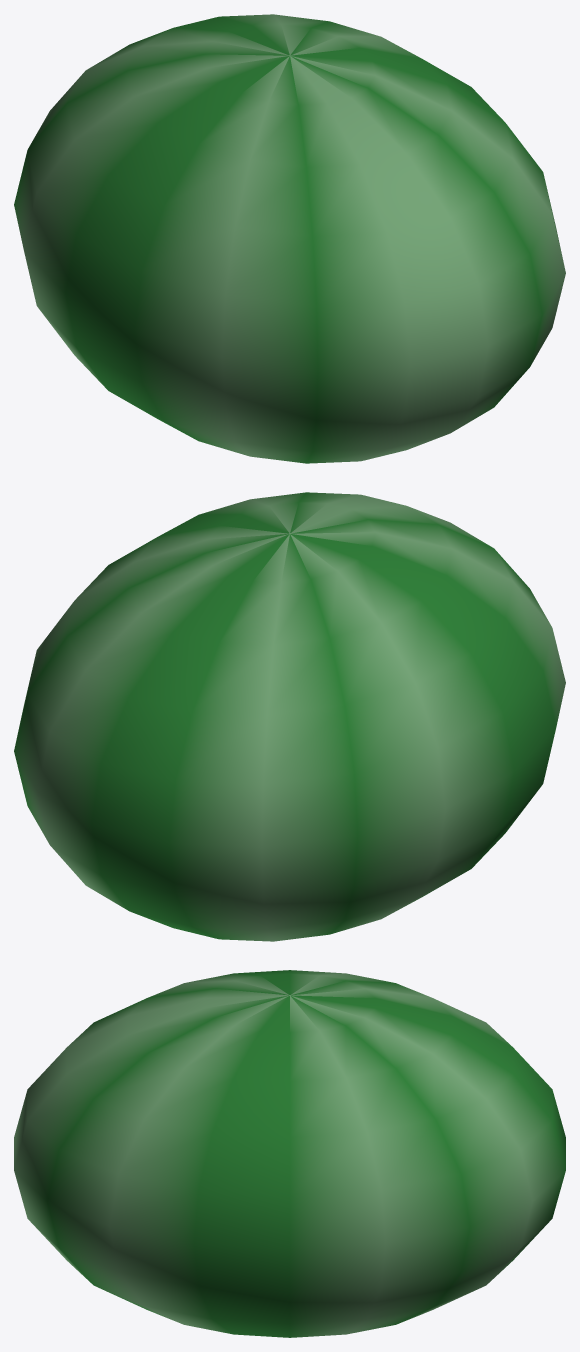
Rendered from fruit-watermelon-plain.gltf.
3 views of the same model, one above another, from view 1: azimuth 30°, elevation 25°; view 2: azimuth 150°, elevation 25°; view 3: azimuth 270°, elevation 25° (orthographic). The views are drawn at different scales.
Bounding box in the file's own units: 1.1 × 0.858 × 1.35.
